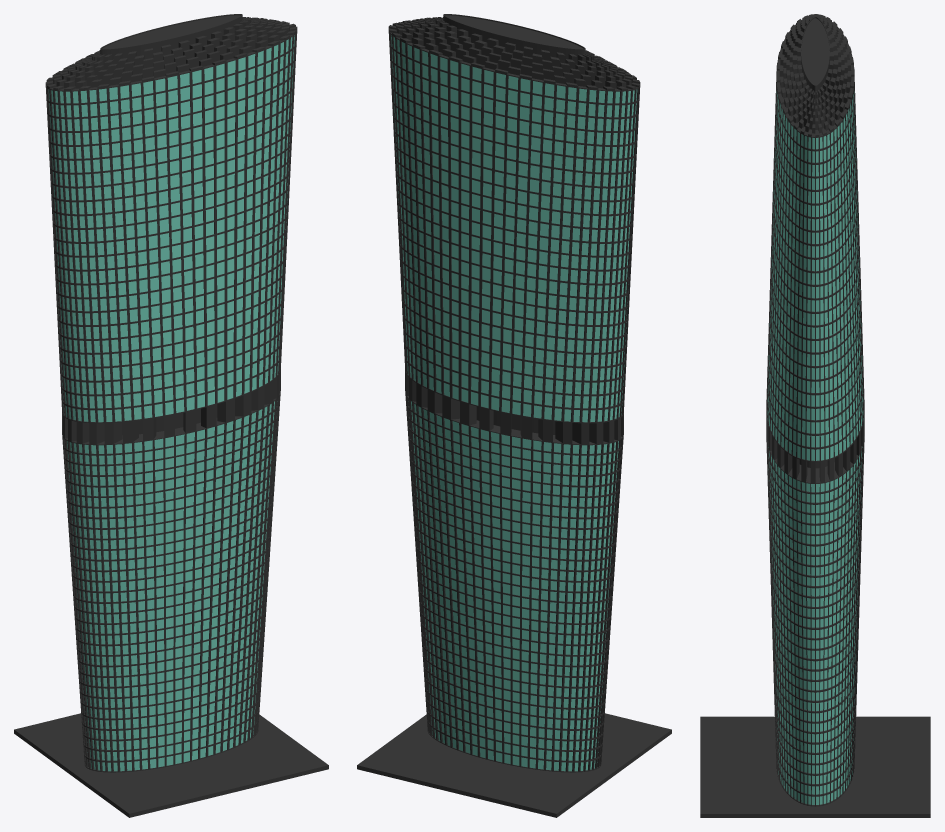
3 views of the same model, side by side, from view 1: azimuth 30°, elevation 25°; view 2: azimuth 150°, elevation 25°; view 3: azimuth 270°, elevation 25° (orthographic).
Visible parts, largest first — view 1: Cylinder.044, Cylinder.043, Floor.013; view 2: Cylinder.044, Cylinder.043, Floor.013; view 3: Cylinder.044, Cylinder.043, Floor.013.
Part boxes in pixels (x1,y1,x2,y2): Cylinder.044: (45,14,297,423); Cylinder.043: (62,370,280,772); Floor.013: (14,713,328,817); Cylinder.044: (388,14,640,423); Cylinder.043: (405,370,623,772); Floor.013: (357,713,671,817); Cylinder.044: (766,14,864,462); Cylinder.043: (766,416,864,806); Floor.013: (700,716,930,817).
Size of the model in its own units: 997 by 2756 by 800.
